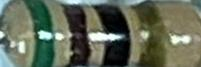Black: (93, 4, 132, 66)
Brown: (57, 3, 94, 65)
Green: (22, 0, 57, 66)
Side-Gold: (136, 1, 167, 66)
